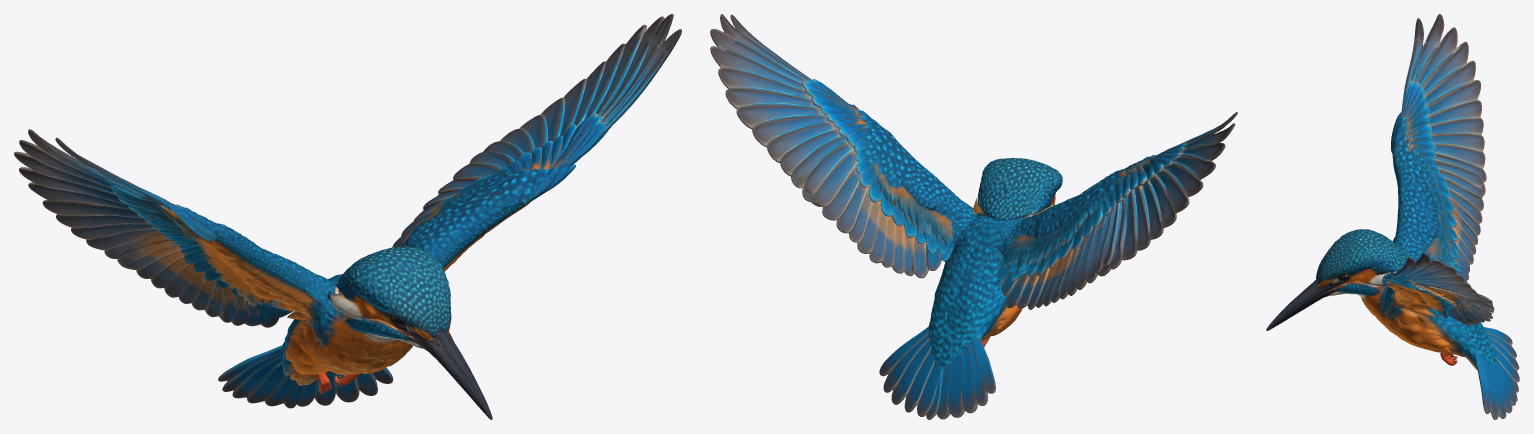
3 views of the same model, side by side, from view 1: azimuth 30°, elevation 25°; view 2: azimuth 150°, elevation 25°; view 3: azimuth 270°, elevation 25° (orthographic). The views are drawn at different scales.
Visible parts, largest first — view 1: Mesh_0; view 2: Mesh_0; view 3: Mesh_0.
Boxes of the visible parts, <box> form: Mesh_0: <box>14,14,681,419</box>; Mesh_0: <box>710,14,1237,419</box>; Mesh_0: <box>1266,14,1519,419</box>.
Size of the model in its own units: 1.89 by 1.13 by 0.9279.
1 material, 1 textured.
